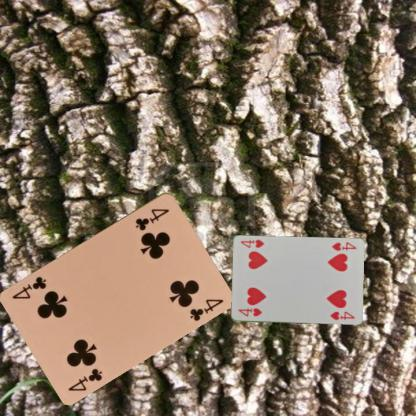4c: (65, 365, 104, 392), (132, 205, 170, 232)
4h: (329, 240, 357, 252), (236, 306, 263, 317)
